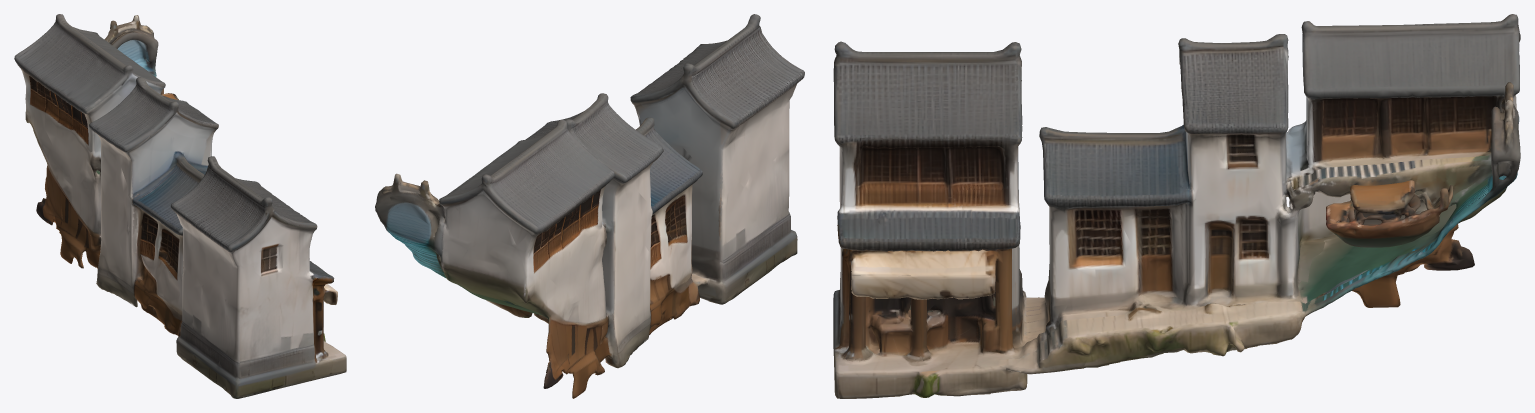
3 renders of one model, left to right at view 1: azimuth 30°, elevation 25°; view 2: azimuth 150°, elevation 25°; view 3: azimuth 270°, elevation 25°, orthographic. The views are drawn at different scales.
Parts seen in each view (by area): view 1: material.001; view 2: material.001; view 3: material.001.
Part boxes in pixels (x1=…): material.001: x1=14, y1=14, x2=346, y2=398; material.001: x1=375, y1=14, x2=804, y2=398; material.001: x1=833, y1=14, x2=1520, y2=398.
Size of the model in its own units: 0.3787 by 0.5474 by 1.02.
1 material, 1 textured.
